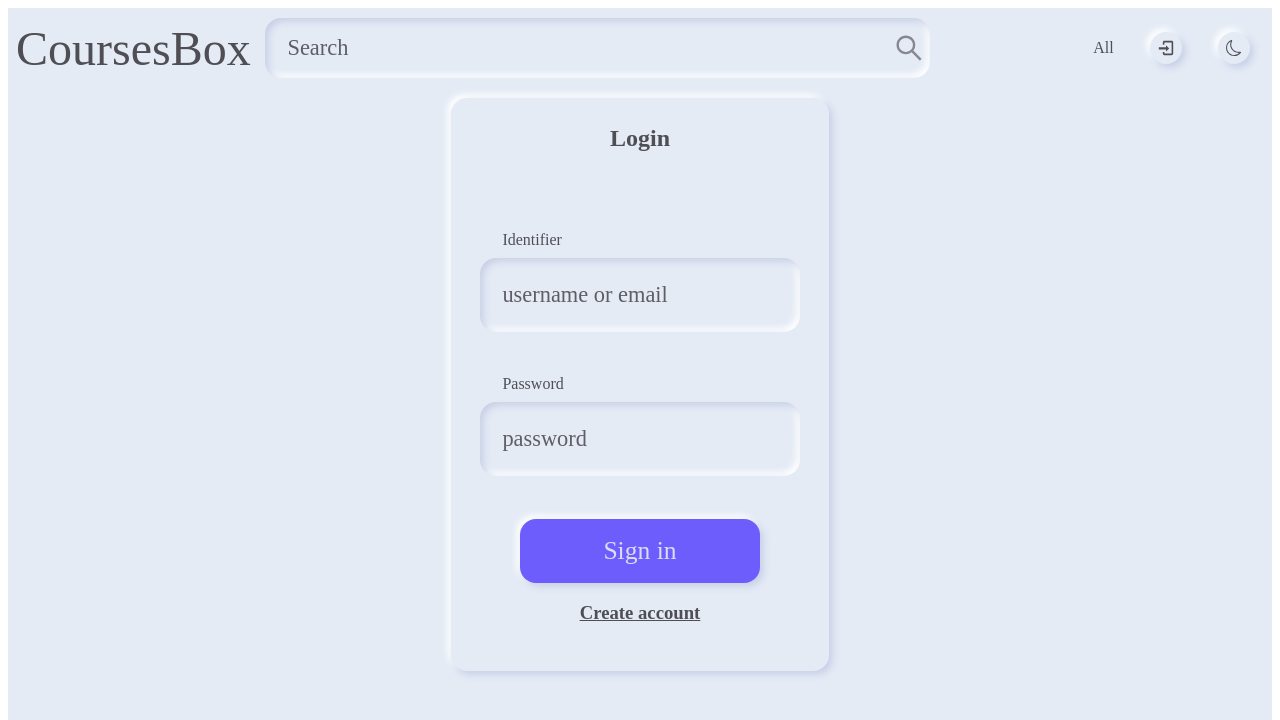
Test case: Login page › should validate input
Click the button "Sign in" at (640, 551), box [520, 519, 760, 583]
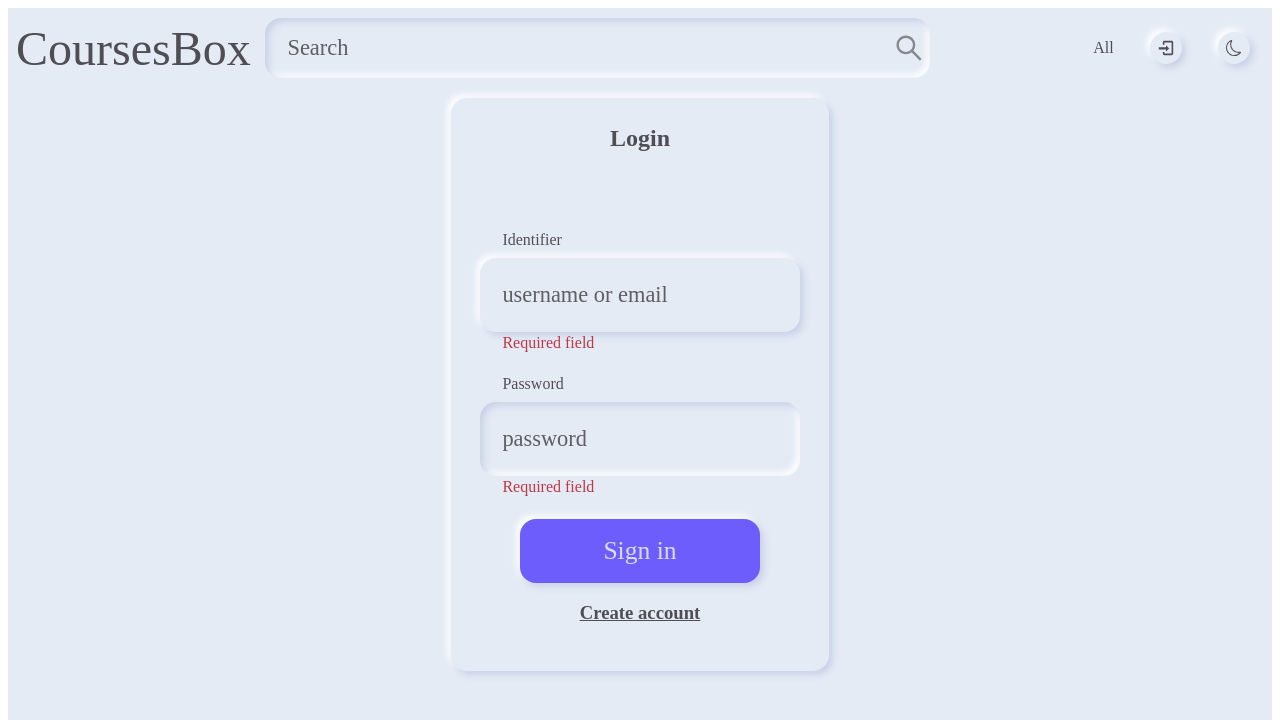
Now the text "Required field" is shown 2 times, box [502, 334, 594, 351]; [502, 478, 594, 495]
Type "test" into the field labelled "Identifier" at (640, 295), box [480, 258, 800, 332]
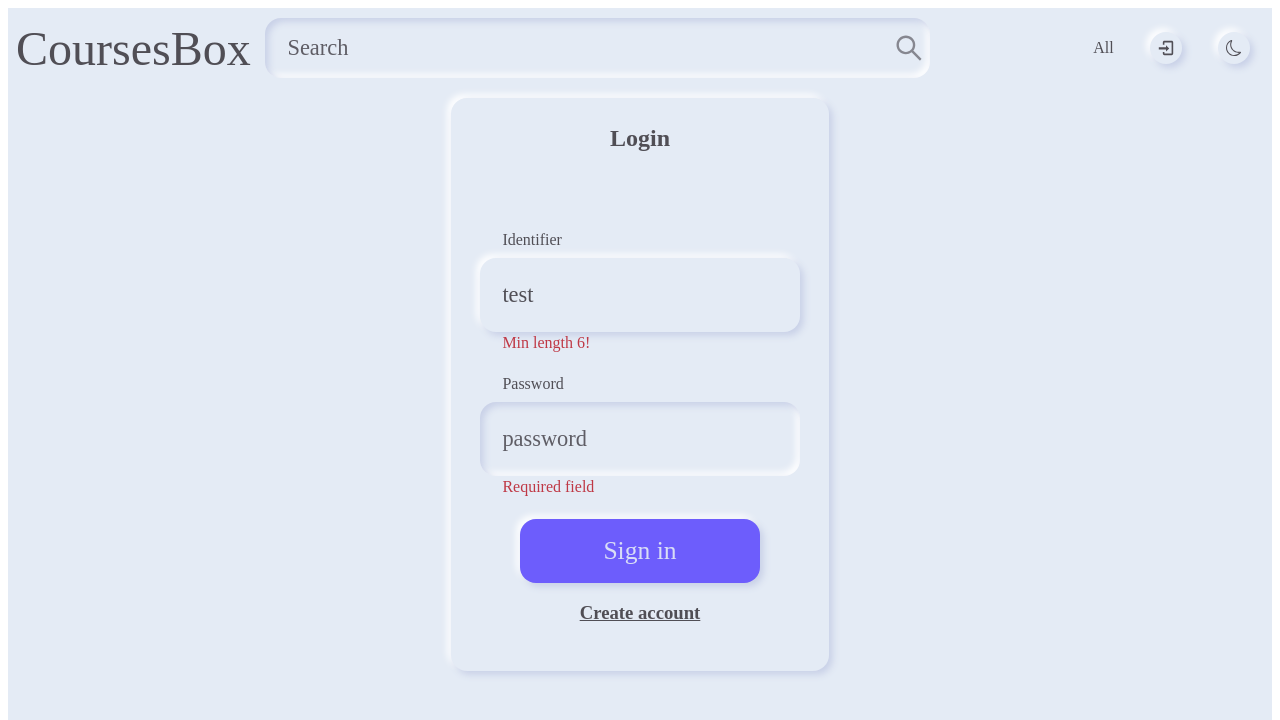
Now the text "Required field" is shown, box [502, 478, 594, 495]
Now the text "Min length 6!" is shown, box [502, 334, 590, 351]
Type "test" into the field labelled "Password" at (640, 439), box [480, 402, 800, 476]
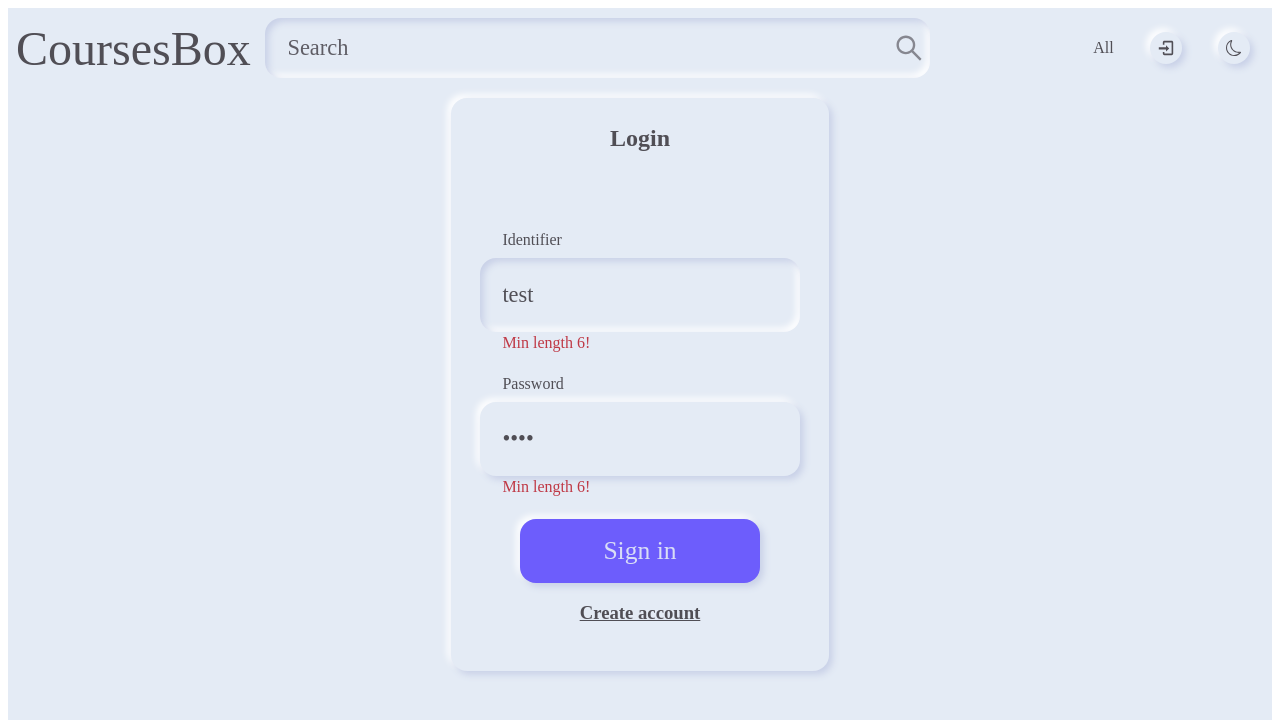
Now the text "Min length 6!" is shown 2 times, box [502, 334, 590, 351]; [502, 478, 590, 495]
Now the text "Required field" is gone
Type "test@test.com" into the field labelled "Identifier" at (640, 295), box [480, 258, 800, 332]
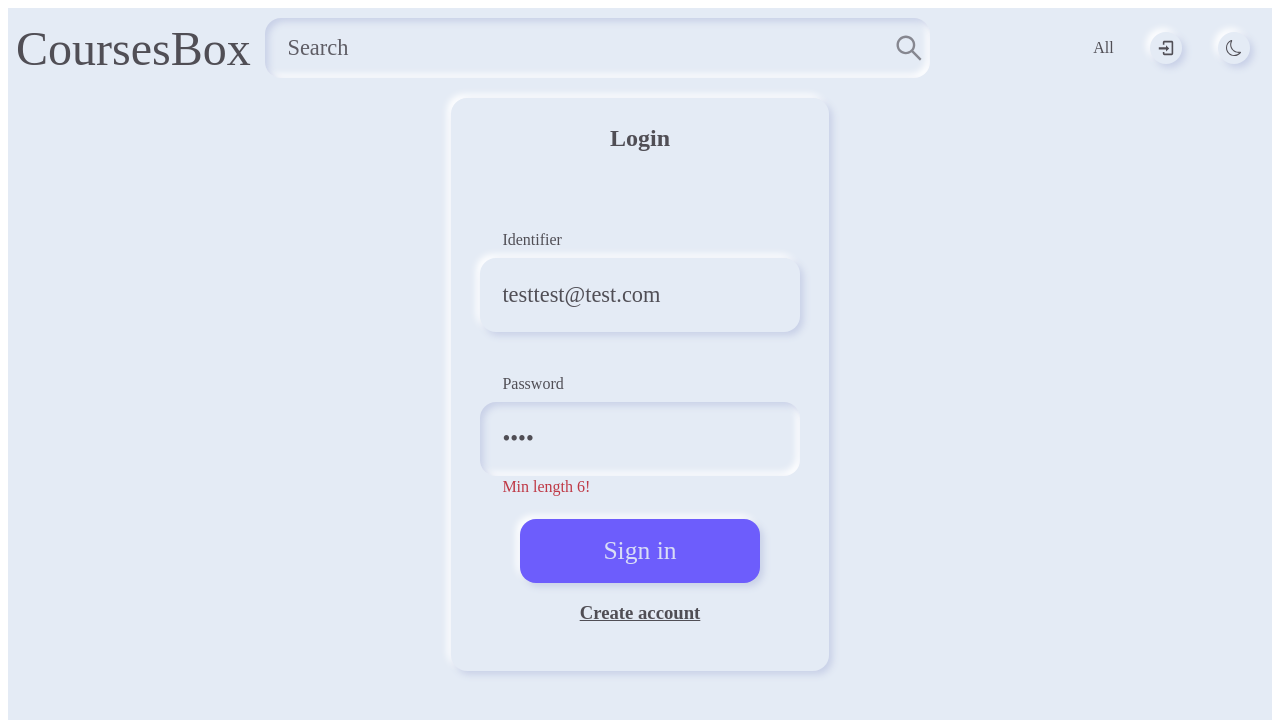
Type "testtesttest" into the field labelled "Password" at (640, 439), box [480, 402, 800, 476]
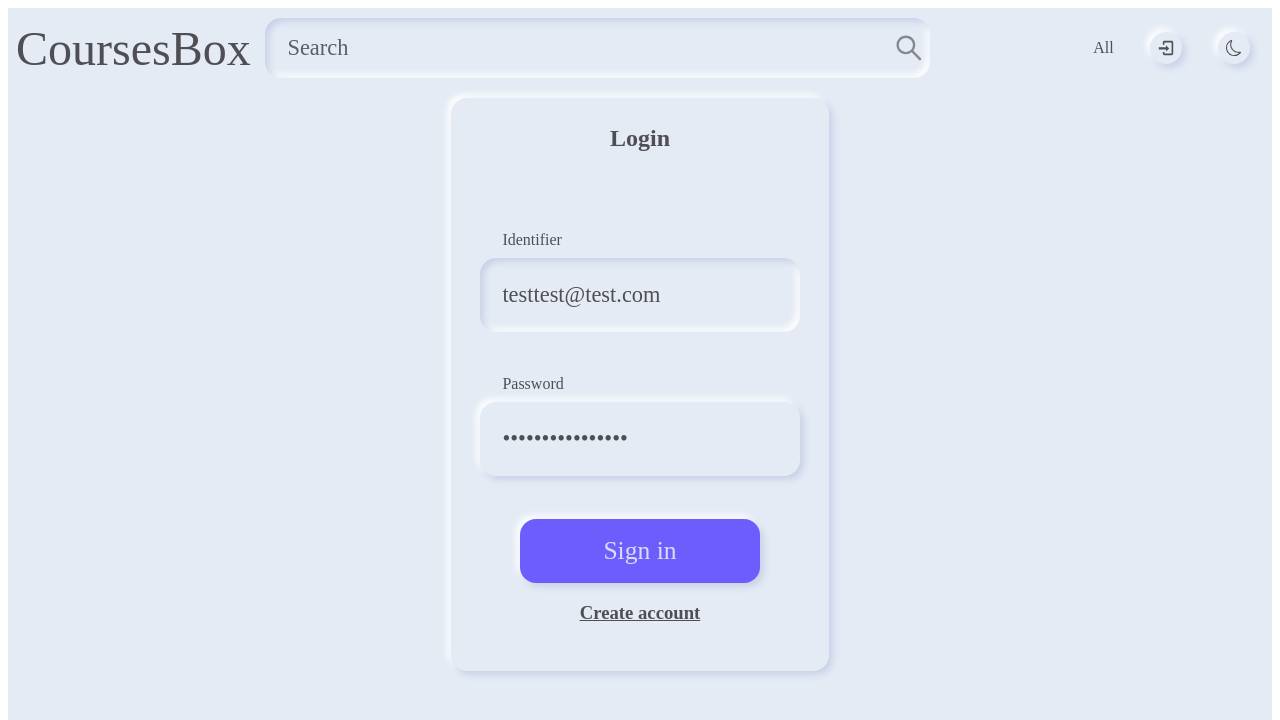
Now the text "Min length 6!" is gone
